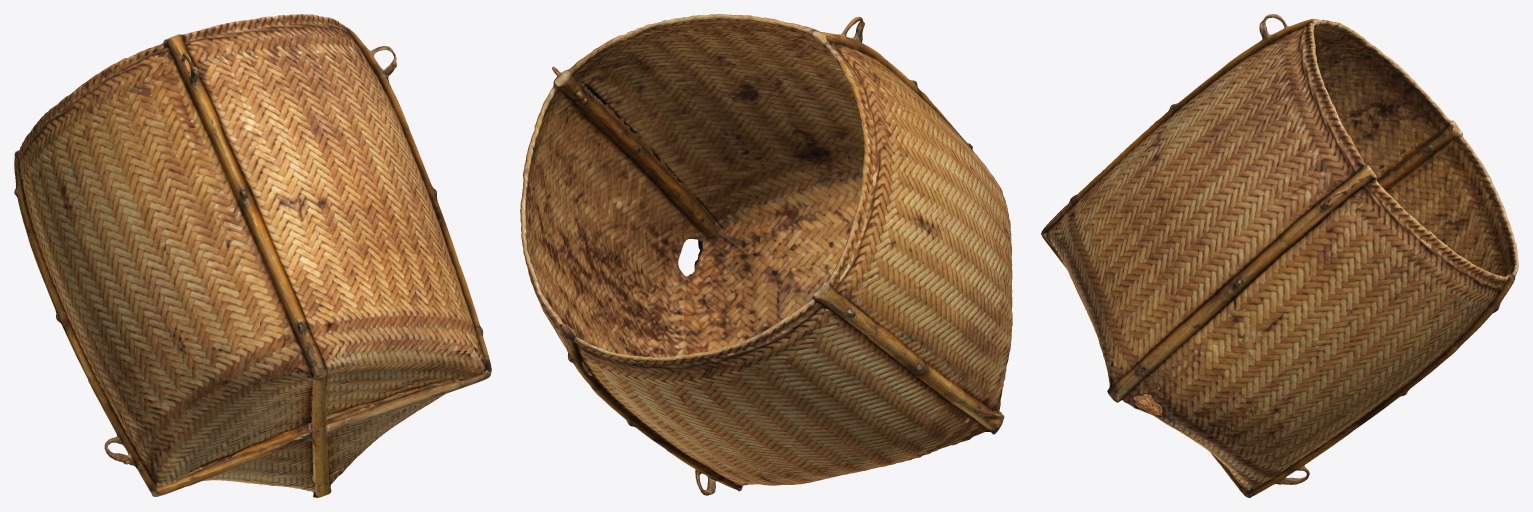
The model's file is Gui.fbx.
The picture shows the model from 3 angles, left to right: view 1: azimuth 30°, elevation 25°; view 2: azimuth 150°, elevation 25°; view 3: azimuth 270°, elevation 25°; orthographic projection. The views are drawn at different scales.
Parts seen in each view (by area): view 1: model_0; view 2: model_0; view 3: model_0.
Part boxes in pixels (bbox=[...]): model_0: bbox=[14, 14, 491, 497]; model_0: bbox=[520, 14, 1012, 495]; model_0: bbox=[1041, 14, 1518, 497].
Size of the model in its own units: 258 by 330 by 333.
1 material, 1 textured.
